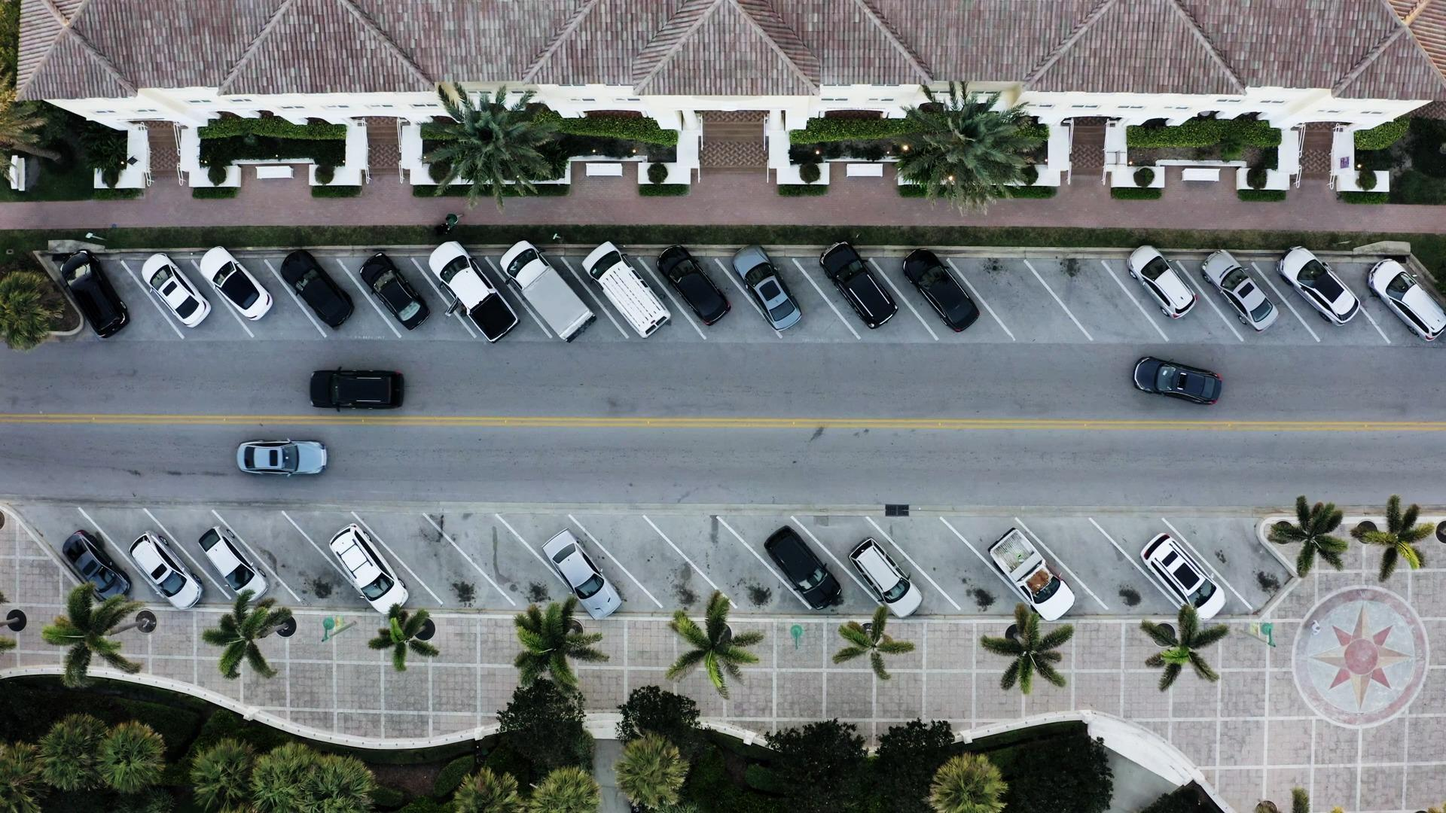car: (256, 418, 331, 498), (1132, 355, 1222, 404), (309, 368, 405, 410)
free: (625, 516, 695, 602), (991, 250, 1063, 332), (696, 530, 768, 612), (1222, 521, 1294, 603), (926, 530, 998, 612), (469, 520, 540, 602), (1060, 535, 1126, 620), (1054, 257, 1124, 336), (389, 538, 457, 612), (257, 552, 344, 586)
occupied: (430, 240, 524, 344), (583, 242, 670, 339), (1139, 532, 1228, 619), (990, 528, 1070, 621), (335, 525, 418, 613), (542, 530, 622, 619), (1276, 245, 1362, 326), (819, 242, 897, 330), (766, 525, 844, 611), (731, 244, 804, 331), (1201, 250, 1279, 330), (1366, 259, 1444, 338), (127, 532, 204, 610), (280, 250, 355, 330), (371, 256, 446, 336), (52, 259, 127, 339), (124, 248, 199, 328), (663, 243, 738, 323), (903, 250, 976, 331), (849, 537, 920, 616), (201, 248, 274, 322), (59, 530, 132, 603), (200, 527, 272, 601), (1127, 246, 1196, 320)
